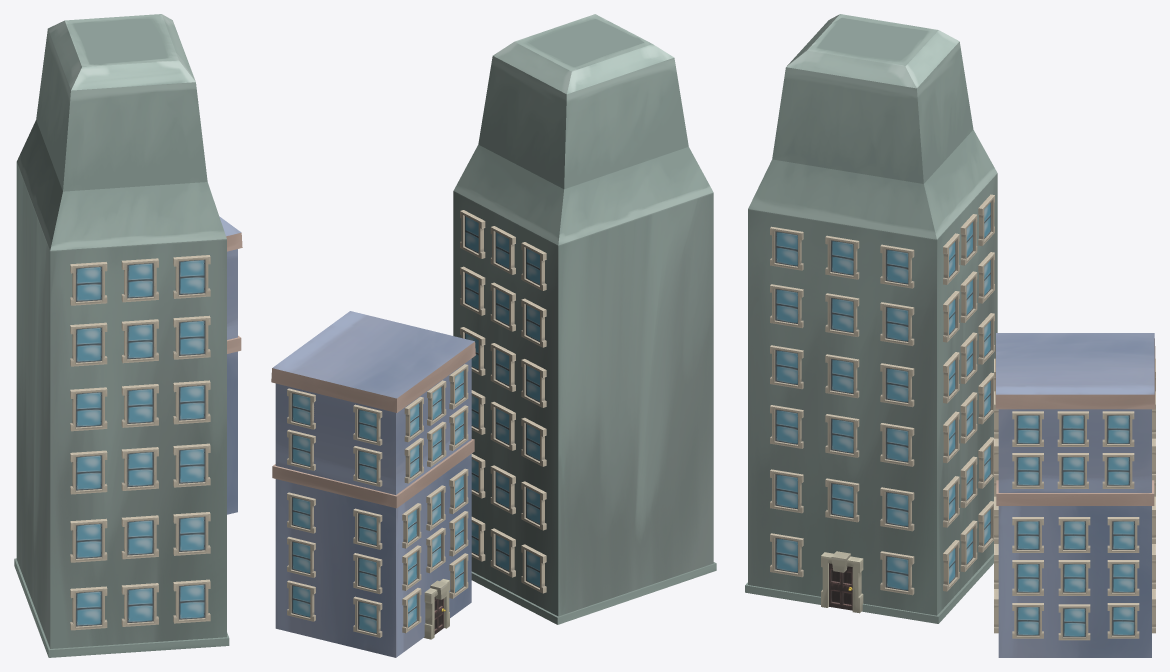
File: house_4tiles.fbx
The picture shows the model from 3 angles, left to right: view 1: azimuth 30°, elevation 25°; view 2: azimuth 150°, elevation 25°; view 3: azimuth 270°, elevation 25°; orthographic projection. The views are drawn at different scales.
Parts seen in each view (by area): view 1: Box017, Box343, Box518, Box521, Box519, Box522, Box523, Box520, Box530, Box533, Box524, Box525 (+8 smaller); view 2: Box017, Box343, Box341, Box339, Box255, Box248, Box258, Box282, Box346, Box271, Box259, Box263 (+29 smaller); view 3: Box017, Box343, Box500, Box513, Box515, Box516, Box517, Box514, Box505, Box501, Box506, Box504 (+41 smaller).
Boxes of the visible parts, x1,y1,x2,y2 form: Box017: (14,14,229,657); Box343: (219,216,242,514); Box518: (173,579,210,623); Box521: (173,380,210,424); Box519: (173,512,210,555); Box522: (173,315,210,359); Box523: (173,255,210,298); Box520: (173,443,210,487); Box530: (70,586,107,630); Box533: (70,387,107,431); Box524: (121,583,158,626); Box525: (121,515,158,559); Box017: (453,14,716,624); Box343: (271,311,475,657); Box341: (424,579,449,639); Box339: (287,580,315,621); Box255: (353,508,382,549); Box248: (353,553,382,594); Box258: (353,404,382,445); Box282: (353,446,382,486); Box346: (353,596,382,637); Box271: (287,388,315,429); Box259: (287,492,315,533); Box263: (287,429,315,470); Box017: (745,14,997,623); Box343: (995,333,1155,657); Box500: (821,551,863,613); Box513: (825,235,859,279); Box515: (825,354,859,398); Box516: (825,414,859,457); Box517: (825,478,859,522); Box514: (825,293,859,337); Box505: (880,302,914,345); Box501: (880,551,914,595); Box506: (880,244,914,288); Box504: (880,363,914,407).
Size of the model in its own units: 1302 by 2388 by 1664.
